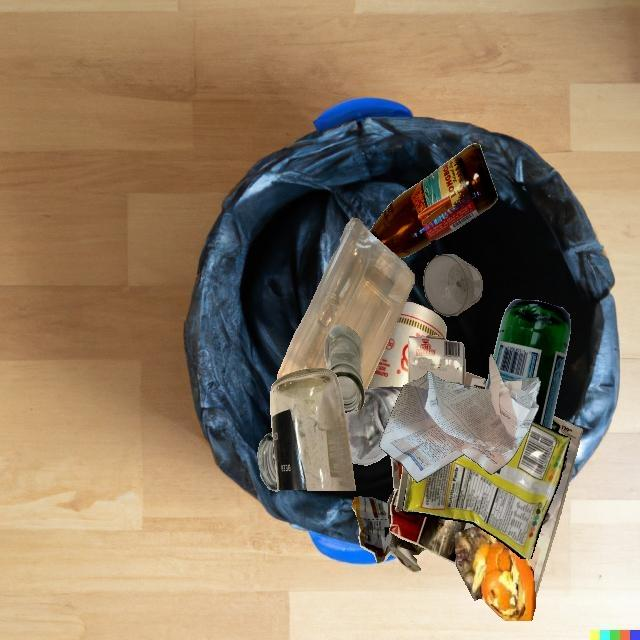biowaste: (455, 526, 536, 621)
cardboard: (408, 336, 465, 385)
glass: (369, 143, 497, 258), (270, 368, 356, 491), (493, 300, 571, 429), (345, 387, 402, 466), (423, 254, 483, 317), (324, 325, 365, 412), (257, 432, 281, 491), (470, 386, 477, 388)
paper: (395, 385, 535, 599), (379, 354, 541, 482), (351, 457, 426, 573)
plastic: (278, 217, 414, 389)
trash: (402, 421, 570, 559), (367, 301, 447, 389)
